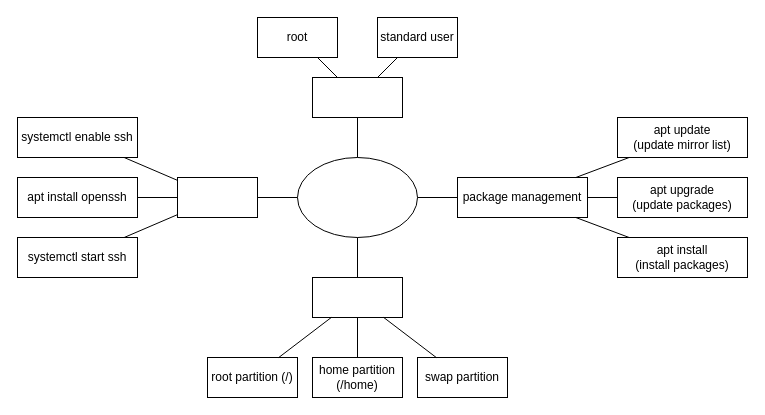
This 765x415 diagram has some shape labels left out. The shapes that lost their labels are listed below. From the top down, each one's box as (x1, y1, x2, y2) in pixels, then its label:
(312, 76, 402, 118): users
(176, 176, 258, 218): ssh
(296, 156, 418, 238): Installation
(312, 276, 402, 318): partitionning
